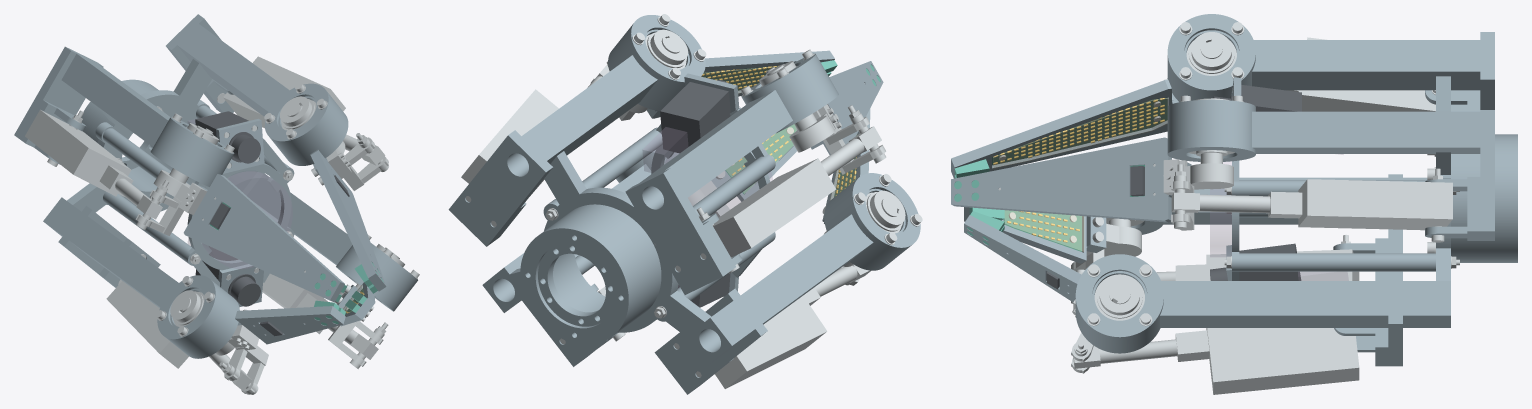
File: HEAD-INTEGRATED03-closed.glb
The picture shows the model from 3 angles, left to right: view 1: azimuth 30°, elevation 25°; view 2: azimuth 150°, elevation 25°; view 3: azimuth 270°, elevation 25°; orthographic projection. The views are drawn at different scales.
Visible parts, largest first — view 1: main_carrier, UL_metal_blade_with_narrow_tongue, removable_optical_frame, UL_P16_envelope_case, UR_metal_blade_with_narrow_tongue, LL_metal_blade_with_narrow_tongue, display_including_candidate_GH_keepout, LL_P16_envelope_case, LL_bearing_outer_cap, UL_integral_steel_crank_spindle, UR_bearing_outer_cap, LL_integral_steel_crank_spindle (+22 smaller); view 2: main_carrier, J7_existing_adapter, UL_P16_envelope_case, J7_extension24, LL_P16_envelope_case, camera_1_physical_keepout, LL_bearing_outer_cap, UR_bearing_outer_cap, UL_integral_steel_crank_spindle, UL_metal_blade_with_narrow_tongue, UR_P16_envelope_case, removable_optical_frame (+21 smaller); view 3: main_carrier, UR_metal_blade_with_narrow_tongue, LR_P16_envelope_case, UR_P16_envelope_case, UL_metal_blade_with_narrow_tongue, UL_lamp_optical_sheet, LR_bearing_outer_cap, optic_column_35.0_-22.0, UL_bearing_outer_cap, J7_existing_adapter, LR_metal_blade_with_narrow_tongue, UL_P16_envelope_case (+28 smaller).
Boxes of the visible parts, box(x1,y1,x2,y2) form: main_carrier: box(14, 14, 414, 358); UL_metal_blade_with_narrow_tongue: box(183, 174, 344, 302); removable_optical_frame: box(185, 118, 294, 307); UL_P16_envelope_case: box(25, 109, 131, 196); UR_metal_blade_with_narrow_tongue: box(310, 149, 386, 291); LL_metal_blade_with_narrow_tongue: box(235, 306, 345, 344); display_including_candidate_GH_keepout: box(202, 171, 292, 268); LL_P16_envelope_case: box(106, 281, 188, 368); LL_bearing_outer_cap: box(157, 275, 219, 342); UL_integral_steel_crank_spindle: box(135, 125, 213, 235); UR_bearing_outer_cap: box(264, 83, 331, 144); LL_integral_steel_crank_spindle: box(175, 296, 268, 394); main_carrier: box(448, 28, 906, 394); J7_existing_adapter: box(520, 220, 639, 344); UL_P16_envelope_case: box(712, 158, 836, 257); J7_extension24: box(552, 204, 661, 326); LL_P16_envelope_case: box(715, 295, 827, 388); camera_1_physical_keepout: box(660, 80, 730, 153); LL_bearing_outer_cap: box(848, 173, 920, 251); UR_bearing_outer_cap: box(627, 15, 705, 86); UL_integral_steel_crank_spindle: box(766, 64, 885, 174); UL_metal_blade_with_narrow_tongue: box(816, 61, 883, 154); UR_P16_envelope_case: box(461, 89, 558, 195); removable_optical_frame: box(651, 73, 775, 296); main_carrier: box(1075, 32, 1494, 366); UR_metal_blade_with_narrow_tongue: box(951, 137, 1189, 222); LR_P16_envelope_case: box(1206, 328, 1359, 394); UR_P16_envelope_case: box(1298, 179, 1452, 230); UL_metal_blade_with_narrow_tongue: box(951, 79, 1176, 178); UL_lamp_optical_sheet: box(993, 98, 1168, 168); LR_bearing_outer_cap: box(1075, 254, 1163, 339); optic_column_35.0_-22.0: box(1239, 253, 1435, 271); UL_bearing_outer_cap: box(1167, 14, 1255, 93); J7_existing_adapter: box(1495, 134, 1517, 262); LR_metal_blade_with_narrow_tongue: box(964, 215, 1081, 301); UL_P16_envelope_case: box(1298, 37, 1435, 111).
Bounding box in the file's own units: 0.2056 × 0.178 × 0.3083.
